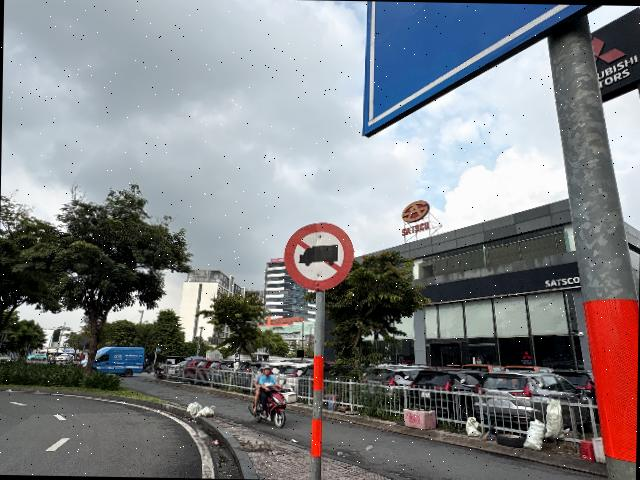cam-xe-tai: (283, 221, 356, 291)
